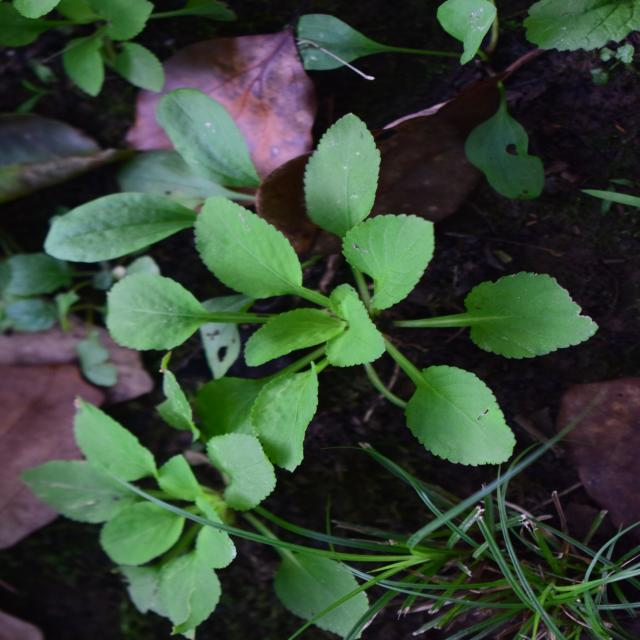Viola: (180, 108, 496, 570), (0, 29, 240, 301)
